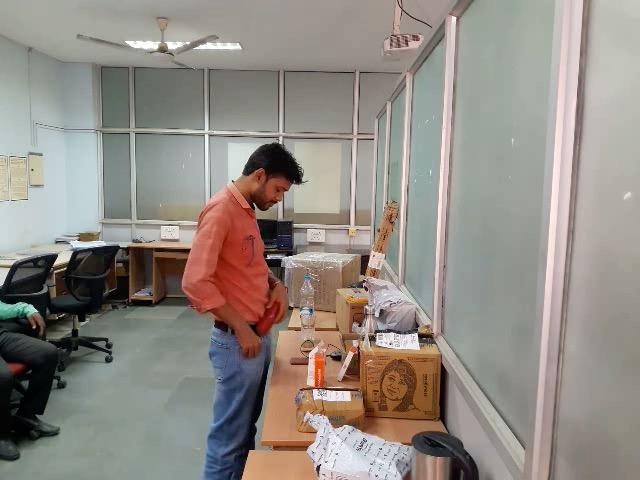shoplifting: (171, 275, 336, 404)
